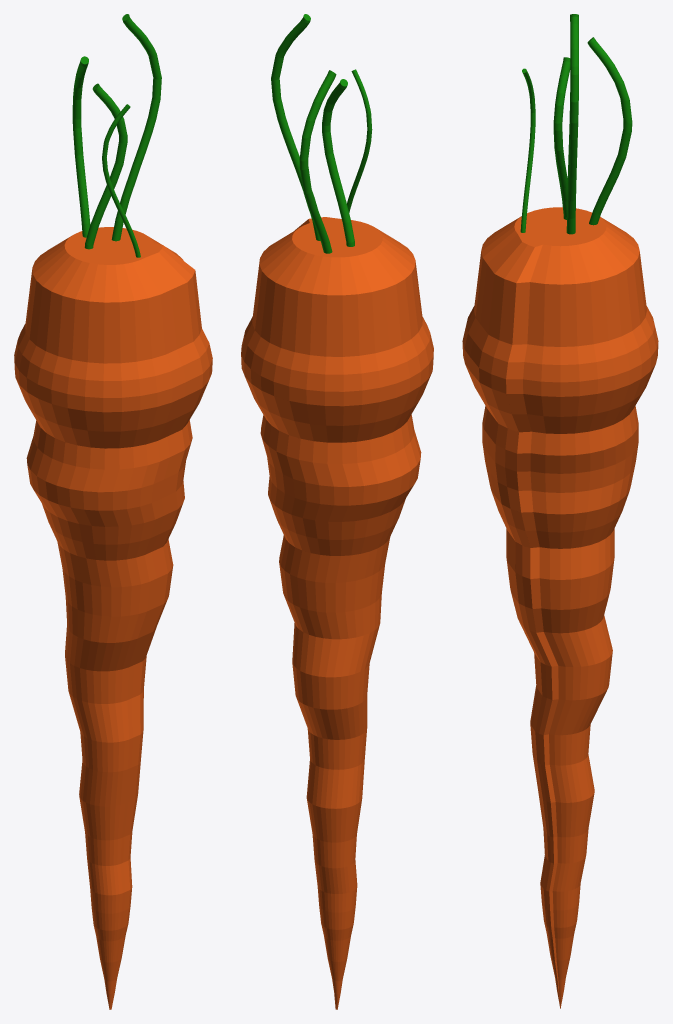
Rendered from carrot.fbx.
The picture shows the model from 3 angles, left to right: view 1: azimuth 30°, elevation 25°; view 2: azimuth 150°, elevation 25°; view 3: azimuth 270°, elevation 25°; orthographic projection. The views are drawn at different scales.
Parts seen in each view (by area): view 1: carrot_body, Cylinder.002, Cylinder, Cylinder.001, Cylinder.003; view 2: carrot_body, Cylinder, Cylinder.002, Cylinder.001, Cylinder.003; view 3: carrot_body, Cylinder.002, Cylinder, Cylinder.001, Cylinder.003.
Part boxes in pixels (left/top/right/bottom): carrot_body: left=14, top=227, right=212, bottom=1009; Cylinder.002: left=111, top=14, right=161, bottom=241; Cylinder: left=72, top=56, right=90, bottom=237; Cylinder.001: left=84, top=83, right=127, bottom=249; Cylinder.003: left=102, top=104, right=140, bottom=257; carrot_body: left=241, top=217, right=433, bottom=1009; Cylinder: left=299, top=70, right=336, bottom=253; Cylinder.002: left=271, top=14, right=320, bottom=240; Cylinder.001: left=322, top=79, right=354, bottom=246; Cylinder.003: left=347, top=69, right=372, bottom=212; carrot_body: left=462, top=207, right=658, bottom=1008; Cylinder.002: left=566, top=14, right=578, bottom=234; Cylinder: left=587, top=37, right=632, bottom=225; Cylinder.001: left=553, top=57, right=570, bottom=219; Cylinder.003: left=520, top=68, right=535, bottom=232.
Bounding box in the file's own units: 66.91 × 380 × 66.91.
